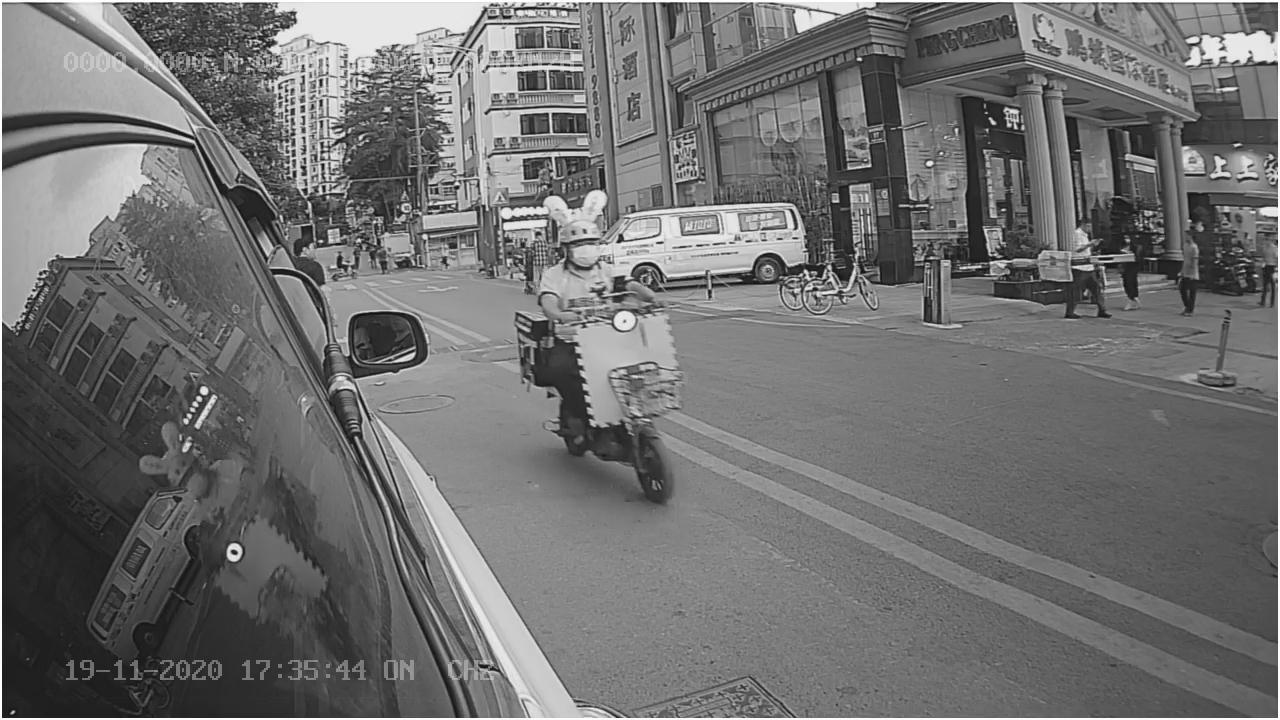person: (535, 216, 641, 312)
